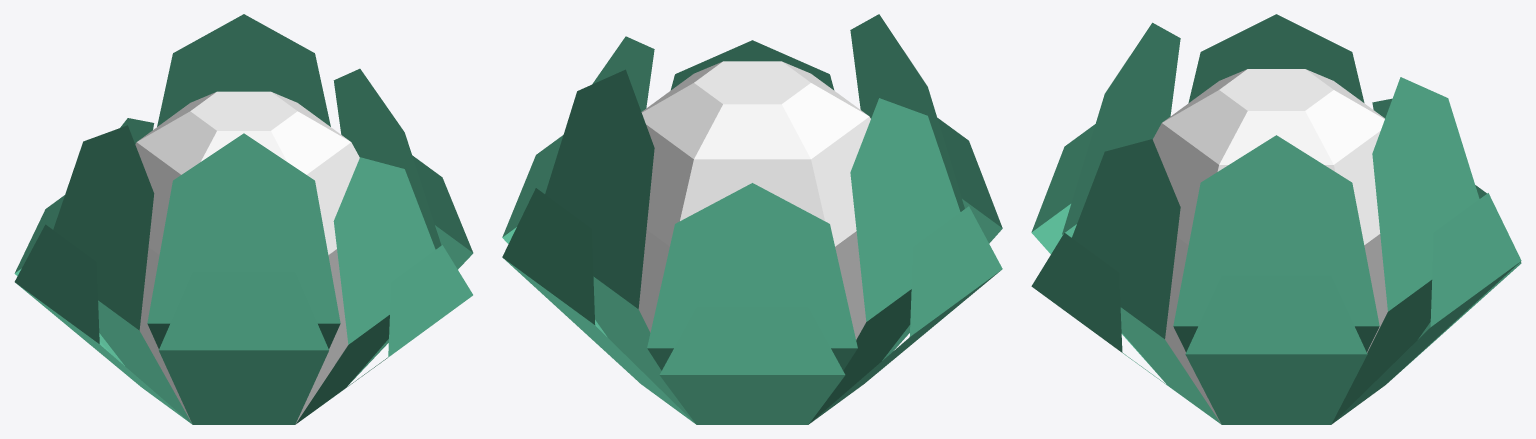
Rendered from cauliflower.dae.
3 renders of one model, left to right at view 1: azimuth 30°, elevation 25°; view 2: azimuth 150°, elevation 25°; view 3: azimuth 270°, elevation 25°, orthographic. The views are drawn at different scales.
Visible parts, largest first — view 1: cauliflower; view 2: cauliflower; view 3: cauliflower.
Boxes of the visible parts, left/top/right/bottom form: cauliflower: left=14, top=14, right=473, bottom=424; cauliflower: left=502, top=14, right=1002, bottom=424; cauliflower: left=1031, top=14, right=1521, bottom=424.
Size of the model in its own units: 0.3794 by 0.3074 by 0.4036.
